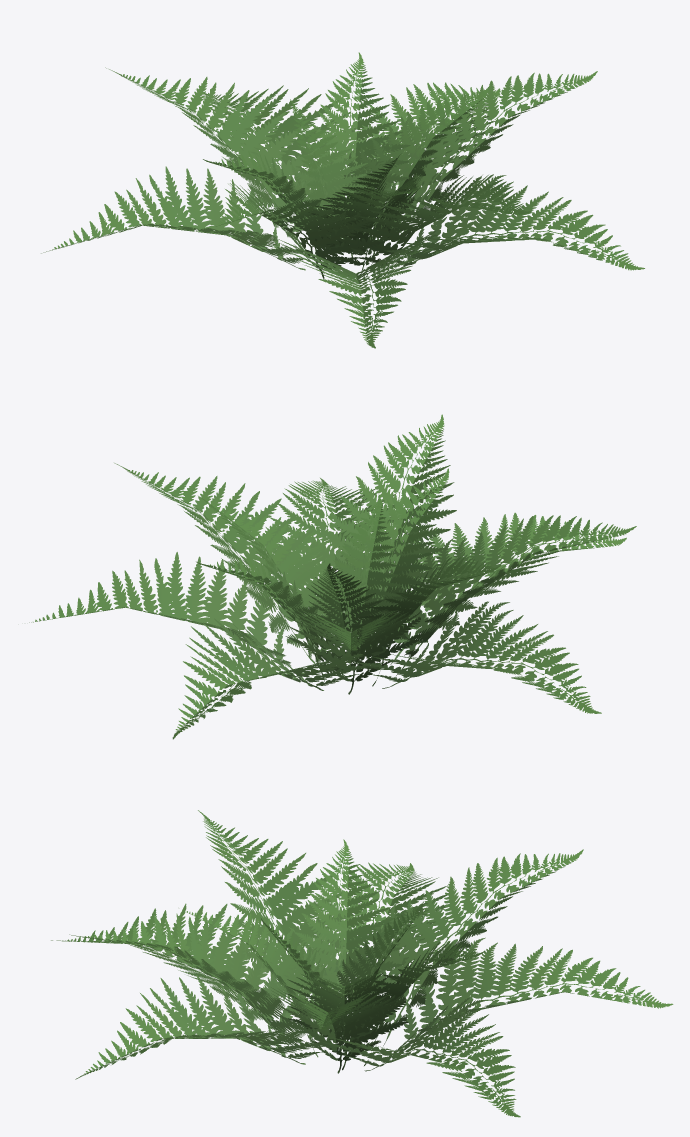
Rendered from bush 2.fbx.
3 renders of one model, top to bottom at view 1: azimuth 30°, elevation 25°; view 2: azimuth 150°, elevation 25°; view 3: azimuth 270°, elevation 25°, orthographic. The views are drawn at different scales.
Parts seen in each view (by area): view 1: fern leaf.001; view 2: fern leaf.001; view 3: fern leaf.001.
Part boxes in pixels (<box>): fern leaf.001: <box>41,52,644,348</box>; fern leaf.001: <box>29,414,636,739</box>; fern leaf.001: <box>51,810,673,1117</box>.
Size of the model in its own units: 190 by 55.91 by 190.
